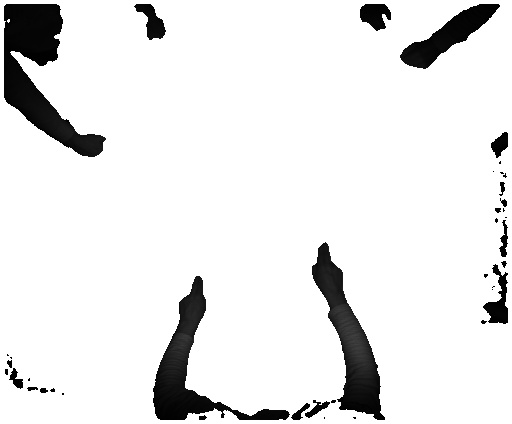fist: (400, 40, 436, 71), (76, 132, 111, 159), (146, 18, 167, 39)
hand: (312, 240, 347, 302), (176, 272, 207, 328)
